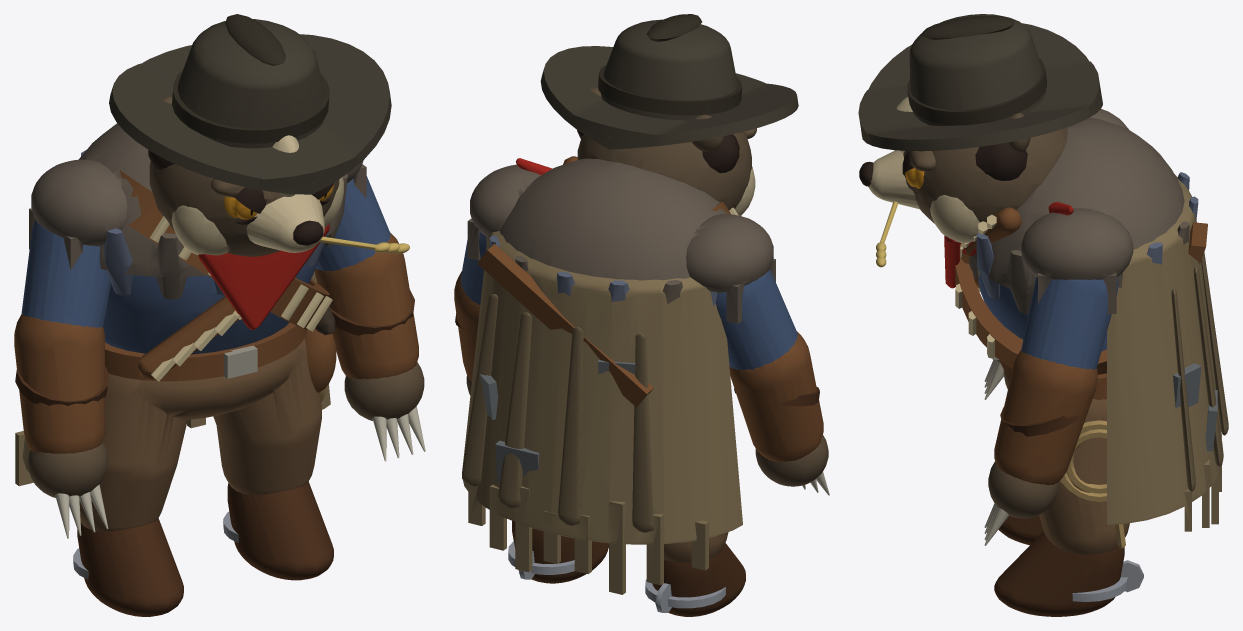
File: badlander.glb
The picture shows the model from 3 angles, left to right: view 1: azimuth 30°, elevation 25°; view 2: azimuth 150°, elevation 25°; view 3: azimuth 270°, elevation 25°; orthographic projection. The views are drawn at different scales.
Parts seen in each view (by area): view 1: creature; view 2: creature; view 3: creature.
Boxes of the visible parts, left/top/right/bottom form: creature: left=14, top=14, right=425, bottom=616; creature: left=454, top=14, right=829, bottom=616; creature: left=858, top=14, right=1228, bottom=616.
Bounding box in the file's own units: 0.6843 × 1 × 0.601.
